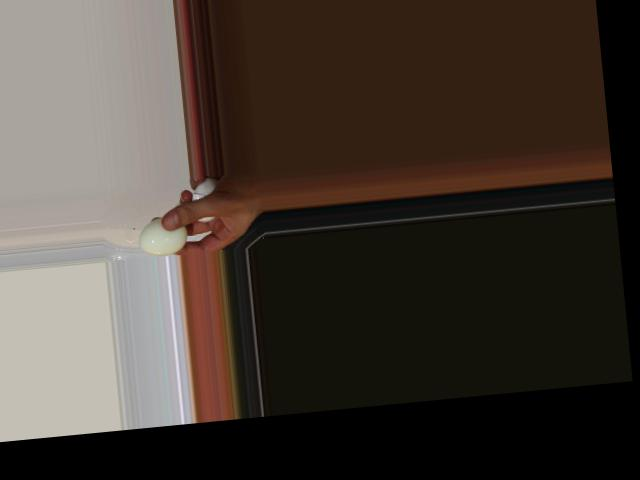egg: (137, 214, 188, 258)
